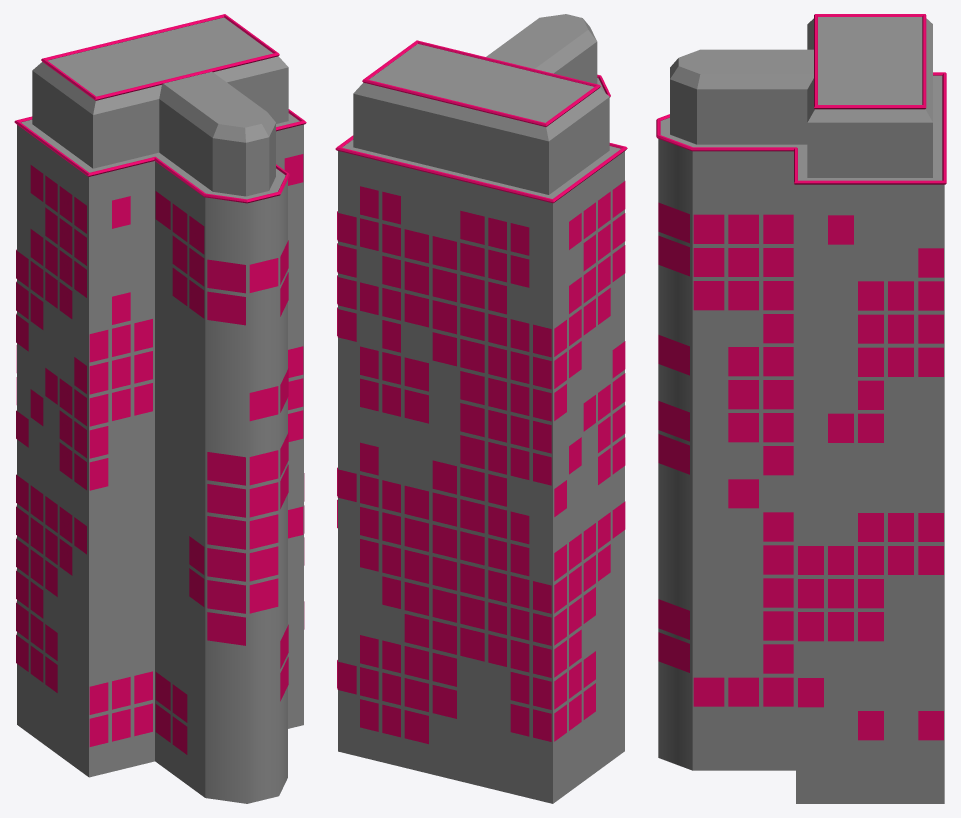
Rendered from obj_bbuilding004.FBX.
The picture shows the model from 3 angles, left to right: view 1: azimuth 30°, elevation 25°; view 2: azimuth 150°, elevation 25°; view 3: azimuth 270°, elevation 25°; orthographic projection. The views are drawn at different scales.
Visible parts, largest first — view 1: bbuilding004, Object009, Object010; view 2: bbuilding004, Object009, Object010; view 3: bbuilding004, Object009, Object010.
Boxes of the visible parts, x1,y1,x2,y2 form: bbuilding004: (17, 17, 303, 803); Object009: (16, 154, 304, 754); Object010: (14, 14, 306, 203); bbuilding004: (338, 14, 624, 803); Object009: (337, 181, 625, 744); Object010: (335, 40, 627, 203); bbuilding004: (658, 17, 944, 803); Object009: (658, 202, 943, 740); Object010: (656, 14, 946, 184).
Bounding box in the file's own units: 6300 × 18439 × 7031.
